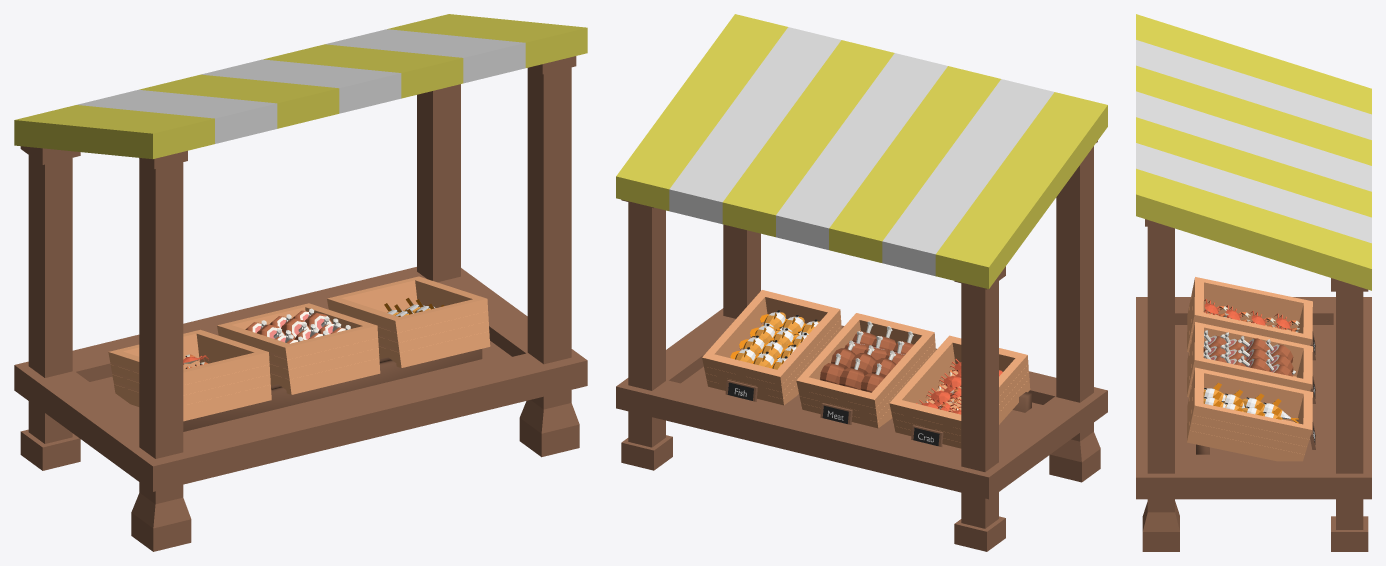
Rendered from market stall4f.fbx.
3 views of the same model, side by side, from view 1: azimuth 30°, elevation 25°; view 2: azimuth 150°, elevation 25°; view 3: azimuth 270°, elevation 25° (orthographic). The views are drawn at different scales.
Visible parts, largest first — view 1: Cube, Cylinder, LowPolyMeat.004; view 2: Cube, Cylinder, LowPolyMeat.004, LowPolyFish.001, Cube.001, LowPolyCrab.001; view 3: Cube, Cylinder, LowPolyMeat.004, LowPolyFish.001, LowPolyCrab.001, Cube.001.
Boxes of the visible parts, x1,y1,x2,y2 form: Cube: (14,14,587,551); Cylinder: (108,276,490,421); LowPolyMeat.004: (245,308,350,343); Cube: (616,14,1107,551); Cylinder: (702,290,1030,448); LowPolyMeat.004: (820,321,913,392); LowPolyFish.001: (730,310,819,369); Cube.001: (725,380,943,446); LowPolyCrab.001: (916,359,1002,414); Cube: (1136,14,1371,551); Cylinder: (1187,277,1312,461); LowPolyMeat.004: (1203,330,1295,376); LowPolyFish.001: (1203,382,1298,423); LowPolyCrab.001: (1204,299,1299,331); Cube.001: (1310,331,1315,449).
Bounding box in the file's own units: 1687 × 1566 × 932.
